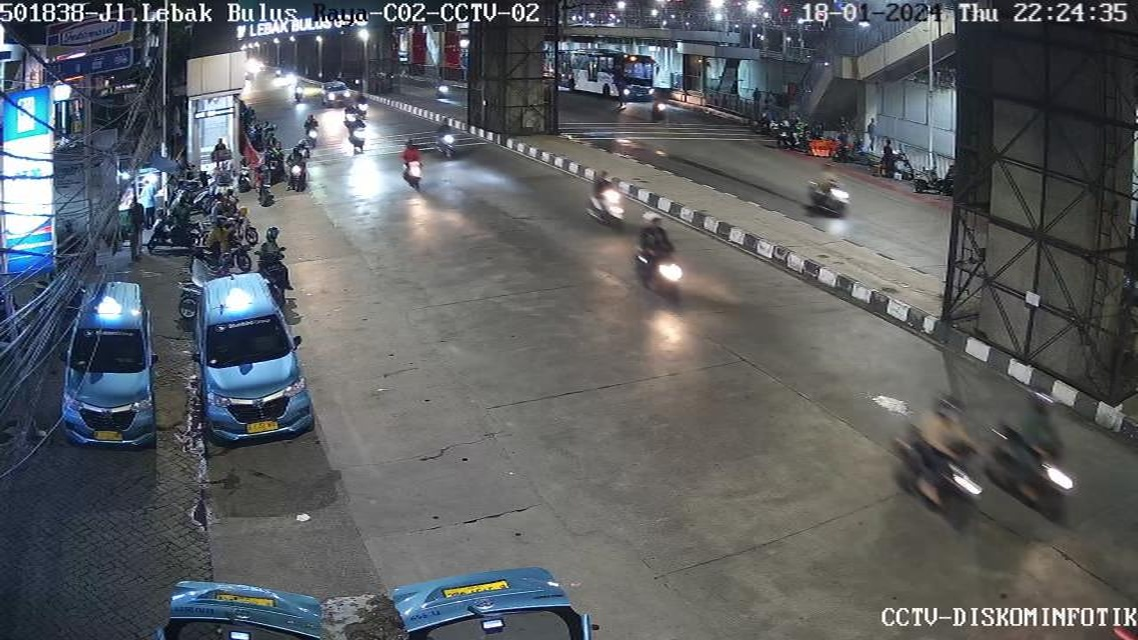Gerobak: (133, 166, 169, 226)
